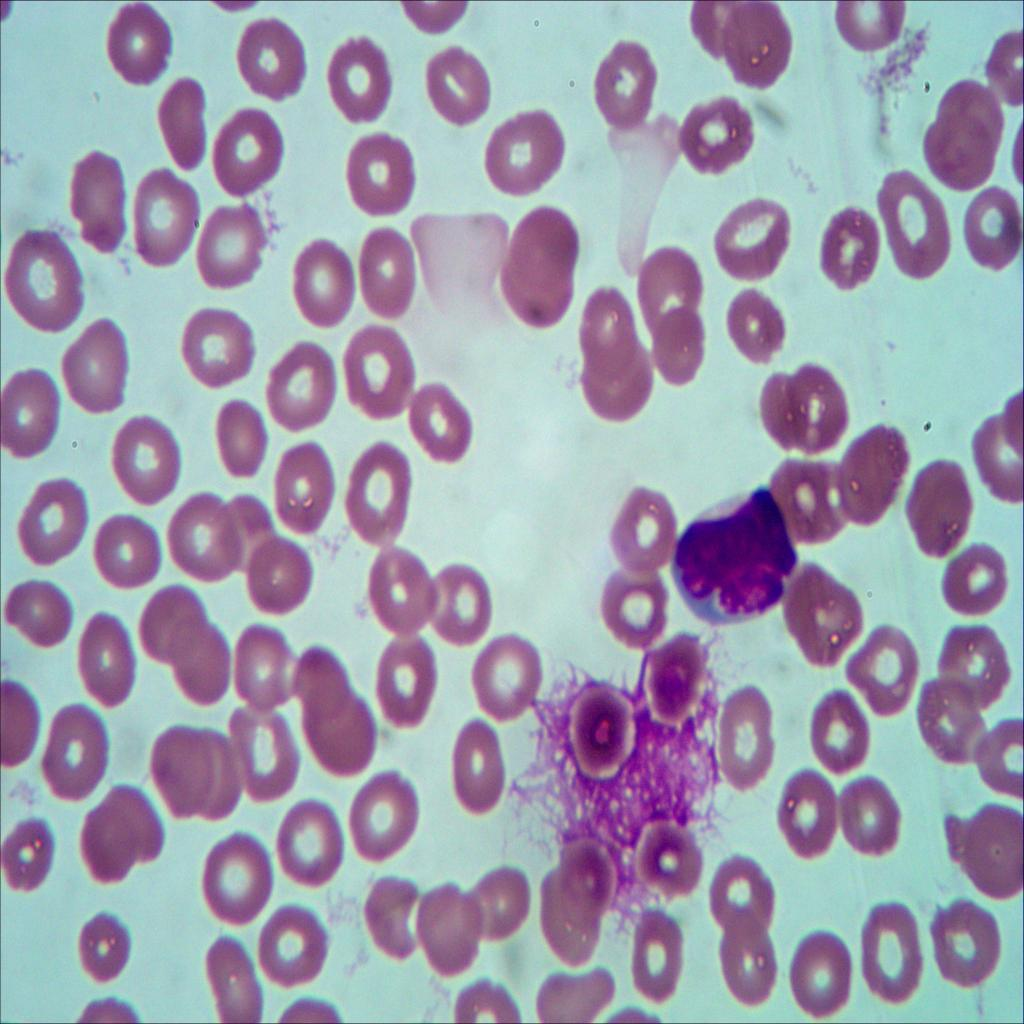Eritrosit: (69, 776, 171, 894), (462, 607, 552, 731), (749, 357, 845, 466), (931, 888, 1018, 1007), (845, 617, 930, 736), (0, 223, 86, 339), (869, 171, 952, 289), (329, 311, 421, 417), (198, 106, 295, 206), (503, 201, 576, 333), (221, 698, 309, 806), (133, 162, 205, 289), (331, 125, 422, 225), (223, 10, 310, 114), (109, 406, 190, 515), (712, 669, 778, 801), (850, 904, 933, 1008), (60, 143, 132, 260), (10, 468, 90, 572), (216, 609, 295, 714), (638, 624, 714, 732), (264, 335, 344, 436), (398, 370, 474, 476), (267, 430, 336, 545), (718, 278, 797, 378), (194, 930, 278, 1024), (189, 200, 273, 293), (95, 0, 178, 94), (722, 0, 798, 102), (486, 103, 573, 192), (37, 704, 110, 810), (324, 29, 400, 130), (201, 823, 273, 929), (370, 633, 444, 736), (629, 892, 694, 1008), (674, 92, 762, 177), (180, 298, 262, 389), (273, 790, 347, 890), (534, 864, 601, 974), (786, 563, 859, 663), (604, 472, 680, 568), (163, 484, 234, 585), (339, 441, 412, 539), (440, 718, 510, 820), (580, 341, 663, 427), (603, 556, 675, 655), (812, 197, 882, 298), (781, 922, 851, 1022), (359, 870, 429, 970), (254, 898, 333, 986), (917, 108, 994, 198), (72, 610, 140, 710), (285, 233, 360, 323), (779, 455, 852, 547), (134, 572, 207, 664), (720, 184, 790, 279), (0, 364, 66, 464), (909, 447, 970, 555), (776, 766, 845, 861), (364, 549, 450, 625), (66, 314, 128, 419), (310, 696, 383, 785), (638, 809, 700, 913), (462, 858, 532, 950), (350, 770, 420, 862), (91, 509, 169, 590), (812, 685, 875, 785), (423, 882, 484, 985), (720, 914, 784, 1012), (840, 777, 906, 872), (182, 723, 244, 823), (572, 278, 630, 384), (206, 389, 270, 485), (353, 220, 416, 317), (704, 851, 780, 931), (940, 615, 1008, 704), (849, 412, 902, 526), (428, 553, 490, 650), (923, 672, 984, 770), (940, 535, 1004, 628), (942, 68, 1008, 158), (423, 44, 495, 126), (570, 688, 634, 780), (548, 837, 624, 912), (249, 531, 316, 616), (0, 577, 73, 655), (962, 189, 1024, 279), (154, 70, 210, 168), (0, 809, 59, 901), (636, 250, 708, 325), (150, 724, 208, 814), (536, 959, 615, 1024), (970, 809, 1024, 904), (596, 42, 656, 126), (75, 909, 134, 988), (291, 641, 349, 720), (649, 310, 706, 384), (182, 630, 238, 704), (835, 0, 907, 57), (222, 489, 278, 558), (977, 728, 1024, 807)
Limfoblast: (676, 484, 802, 626)
